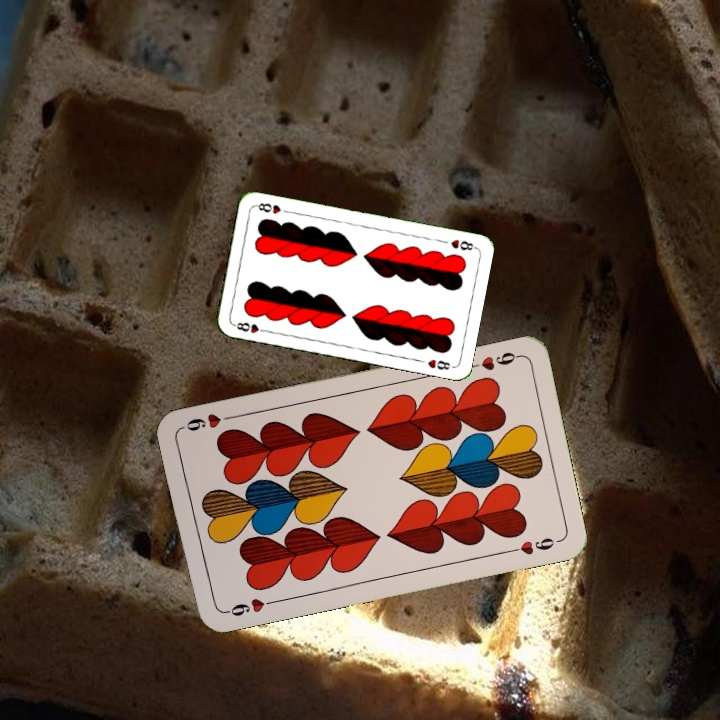H8: (230, 318, 270, 336), (447, 235, 478, 253)
H9: (464, 347, 523, 373), (219, 594, 278, 619)
